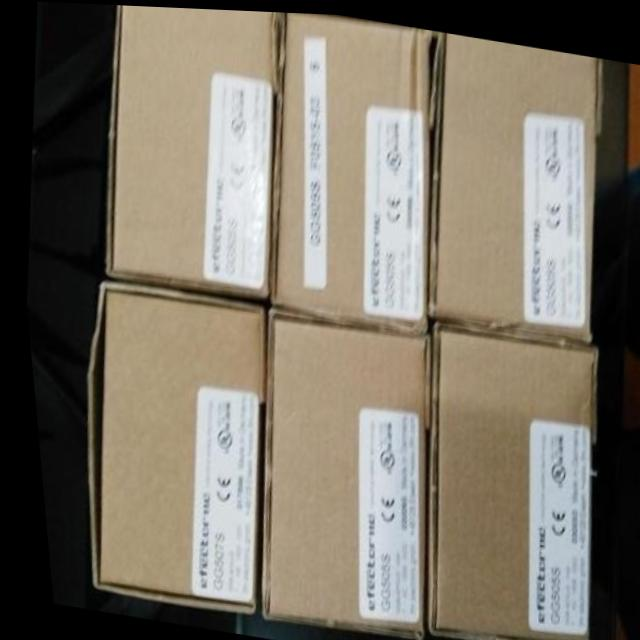box: (79, 275, 257, 612), (251, 299, 424, 635), (415, 313, 590, 640), (420, 26, 601, 334), (265, 10, 431, 324), (100, 4, 277, 296)
